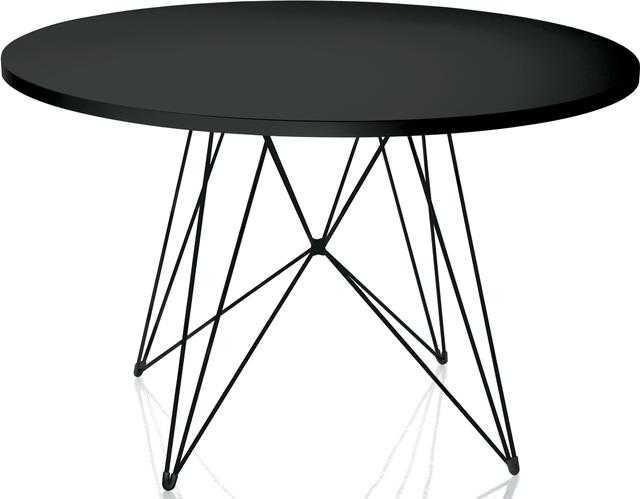obstacle: (0, 77, 639, 496), (389, 0, 639, 57)
